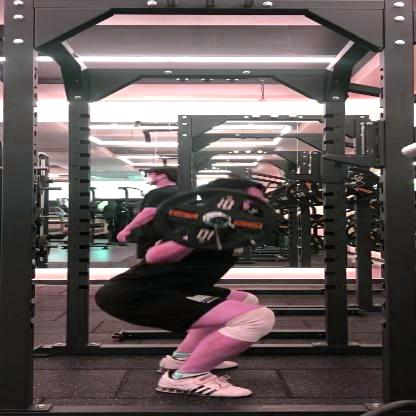Barbell: (199, 211, 234, 228)
